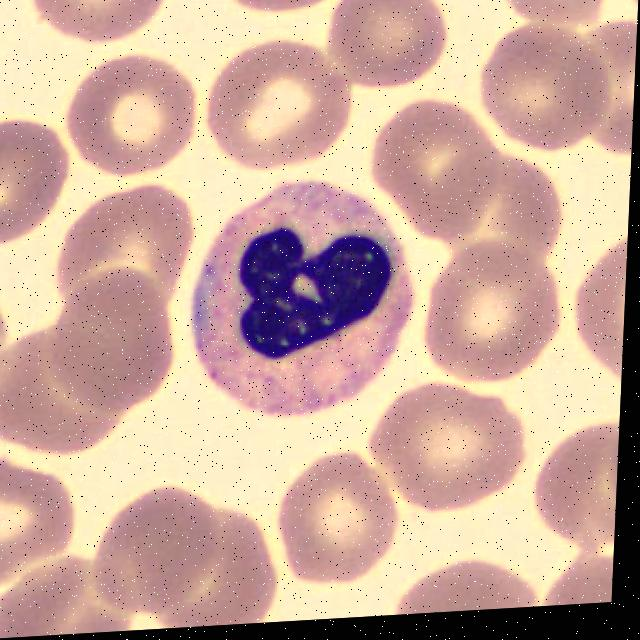neutrophil: (181, 160, 421, 429)
rbc: (49, 274, 189, 416), (204, 41, 351, 176), (364, 114, 512, 238), (380, 378, 520, 508), (269, 453, 399, 583), (436, 252, 560, 380), (57, 197, 181, 317), (105, 490, 227, 611), (169, 504, 284, 628), (450, 148, 559, 276), (491, 28, 606, 149), (65, 62, 197, 165), (2, 349, 122, 457), (0, 553, 144, 639), (531, 427, 619, 557), (568, 11, 638, 164), (386, 551, 544, 615), (0, 465, 75, 587), (337, 0, 444, 80), (569, 243, 628, 383), (0, 131, 77, 236), (27, 0, 164, 38), (540, 548, 614, 606), (501, 0, 618, 33), (208, 0, 362, 19), (0, 297, 14, 384), (596, 0, 640, 22)
